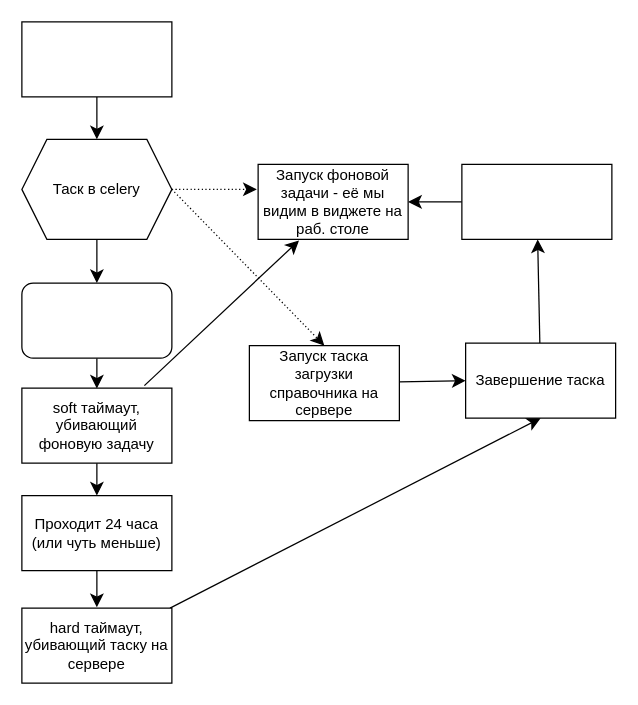
Some shapes in this 638 by 705 pixel diagram are drawn without their labels. The shapes that lost their labels are listed below. From the top down, each one's box as (x1, y1, x2, y2) in pixels, then its label:
(21, 21, 172, 97): Нажатие кнопки "Загрузить"
(461, 163, 612, 239): Нормальное завершение фоновой задачи
(21, 282, 172, 358): Проходит час
